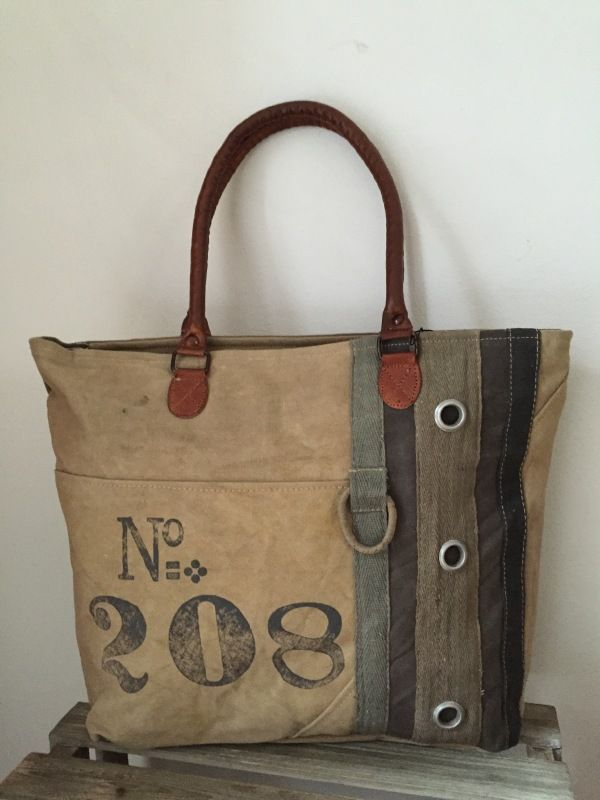nylon: (26, 325, 572, 750)
